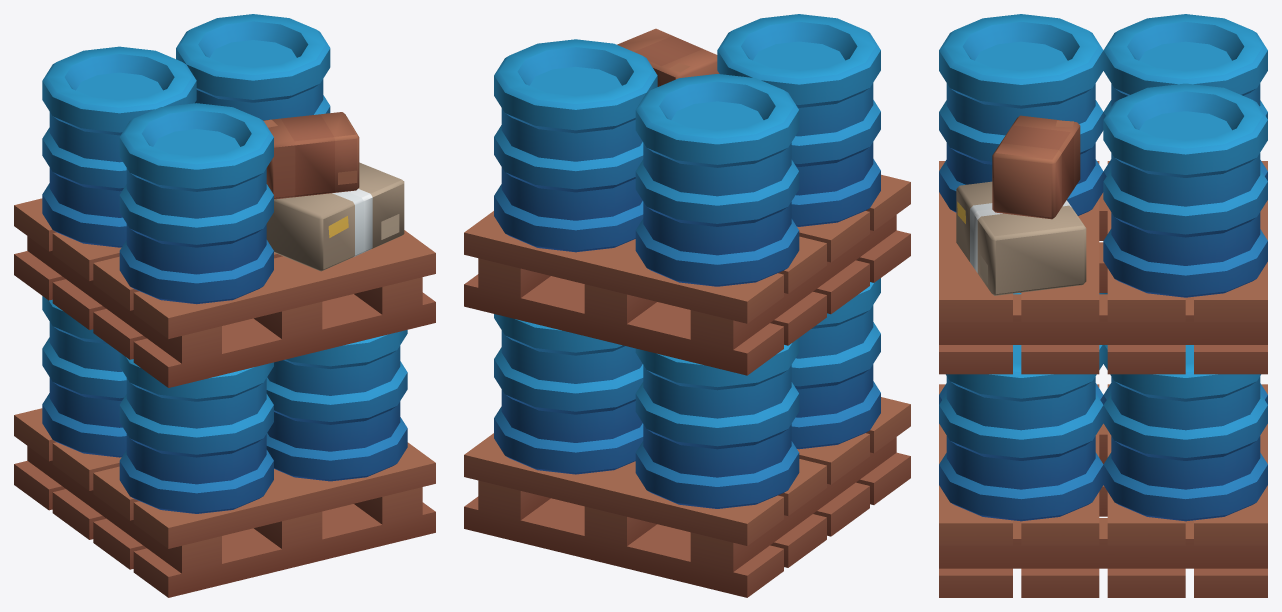
Rendered from Pallet_Small_Decorated_B.glb.
The picture shows the model from 3 angles, left to right: view 1: azimuth 30°, elevation 25°; view 2: azimuth 150°, elevation 25°; view 3: azimuth 270°, elevation 25°; orthographic projection. The views are drawn at different scales.
Visible parts, largest first — view 1: Pallet_Small_Decorated_B; view 2: Pallet_Small_Decorated_B; view 3: Pallet_Small_Decorated_B.
Boxes of the visible parts, x1,y1,x2,y2 form: Pallet_Small_Decorated_B: [14, 14, 435, 597]; Pallet_Small_Decorated_B: [464, 14, 910, 597]; Pallet_Small_Decorated_B: [939, 14, 1267, 597].
Bounding box in the file's own units: 2 × 3 × 2.
Materials: 1 (1 with a texture image).
